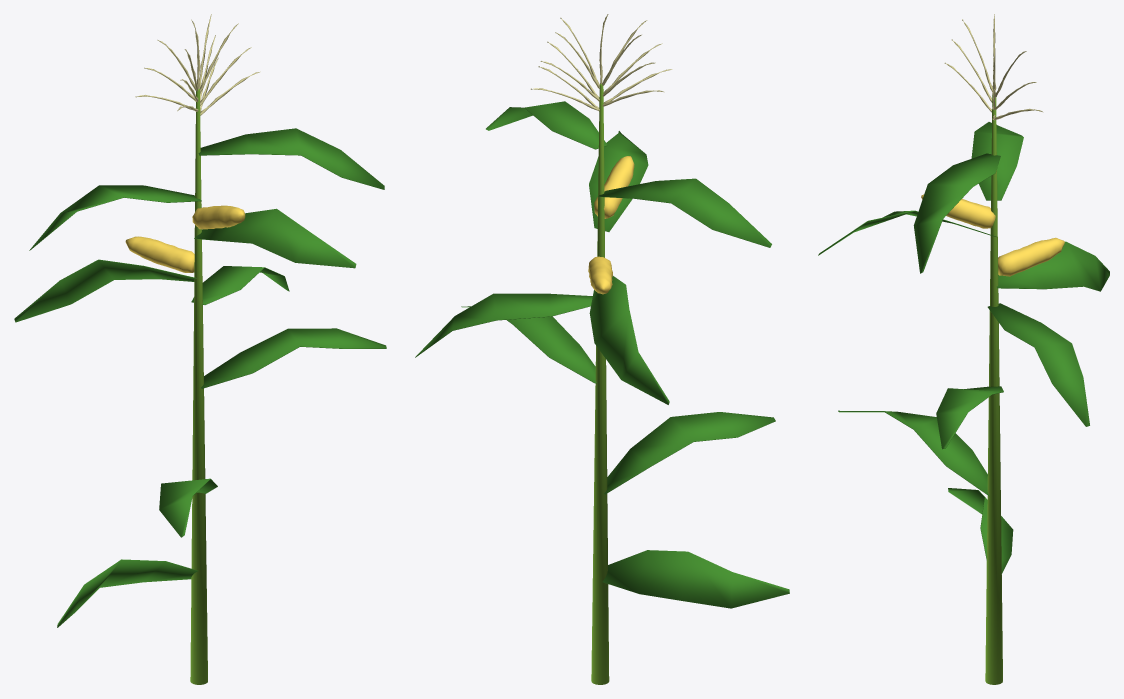
Rendered from corn_plant_with_LODs.fbx.
3 renders of one model, left to right at view 1: azimuth 30°, elevation 25°; view 2: azimuth 150°, elevation 25°; view 3: azimuth 270°, elevation 25°, orthographic.
Parts seen in each view (by area): view 1: corn_plant_LOD0; view 2: corn_plant_LOD0; view 3: corn_plant_LOD0.
Boxes of the visible parts, x1=… form: corn_plant_LOD0: x1=14, y1=14, x2=386, y2=684; corn_plant_LOD0: x1=415, y1=14, x2=789, y2=684; corn_plant_LOD0: x1=818, y1=14, x2=1109, y2=684.
Size of what is drawn, in the model's own units: 209 by 399 by 160.
